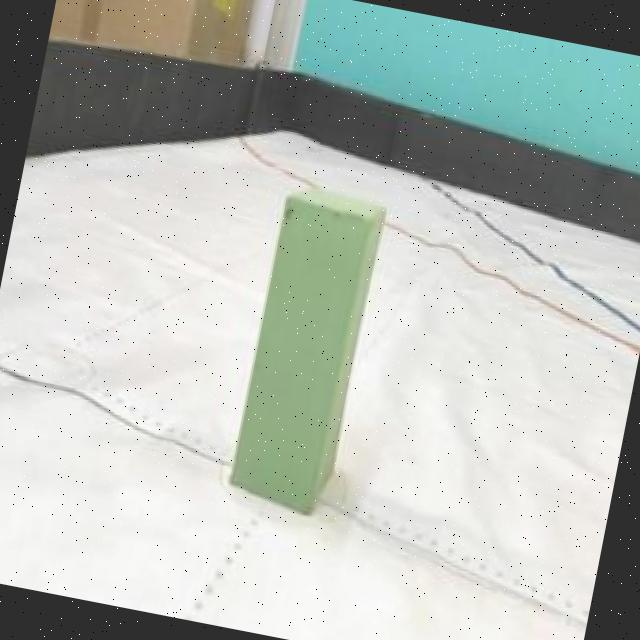greenbox: (226, 188, 390, 522)
